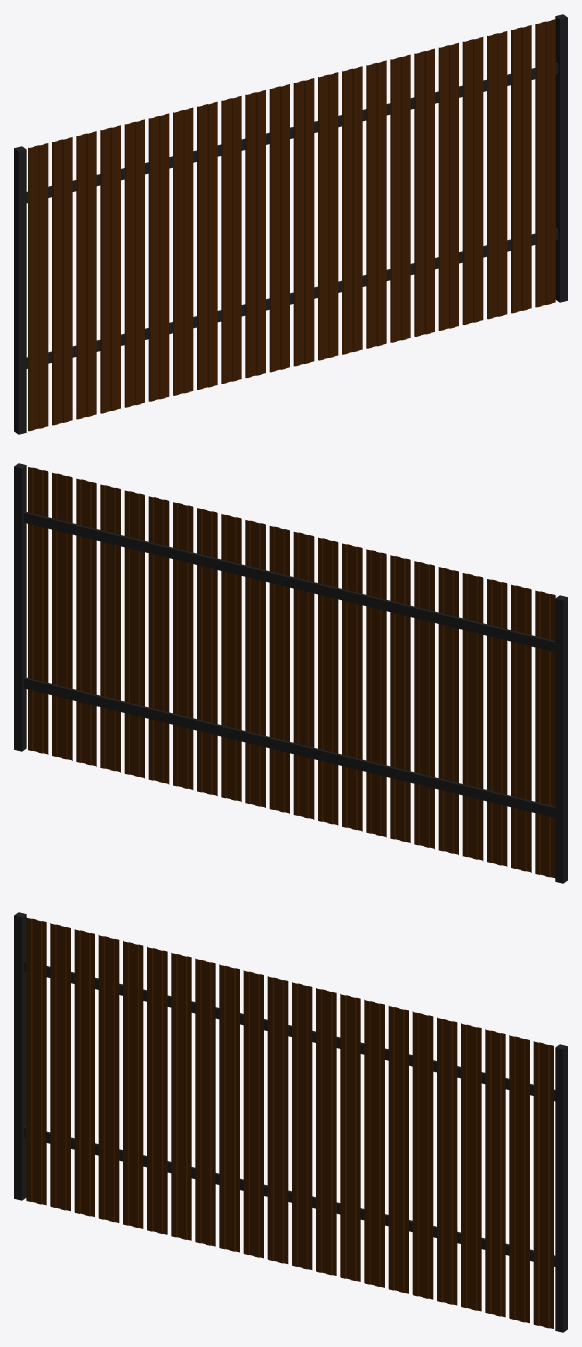
File: OmegaDuo.glb
3 renders of one model, top to bottom at view 1: azimuth 30°, elevation 25°; view 2: azimuth 150°, elevation 25°; view 3: azimuth 330°, elevation 25°, orthographic.
Parts seen in each view (by area): view 1: Omega Duo, Skersinis; view 2: Omega Duo, Skersinis; view 3: Omega Duo, Skersinis.
Part boxes in pixels (left/top/right/bottom): Omega Duo: left=28, top=19, right=555, bottom=431; Skersinis: left=14, top=14, right=567, bottom=434; Omega Duo: left=28, top=467, right=555, bottom=878; Skersinis: left=14, top=463, right=567, bottom=883; Omega Duo: left=26, top=917, right=553, bottom=1328; Skersinis: left=14, top=912, right=567, bottom=1332.
Bounding box in the file's own units: 203 × 100 × 3.
